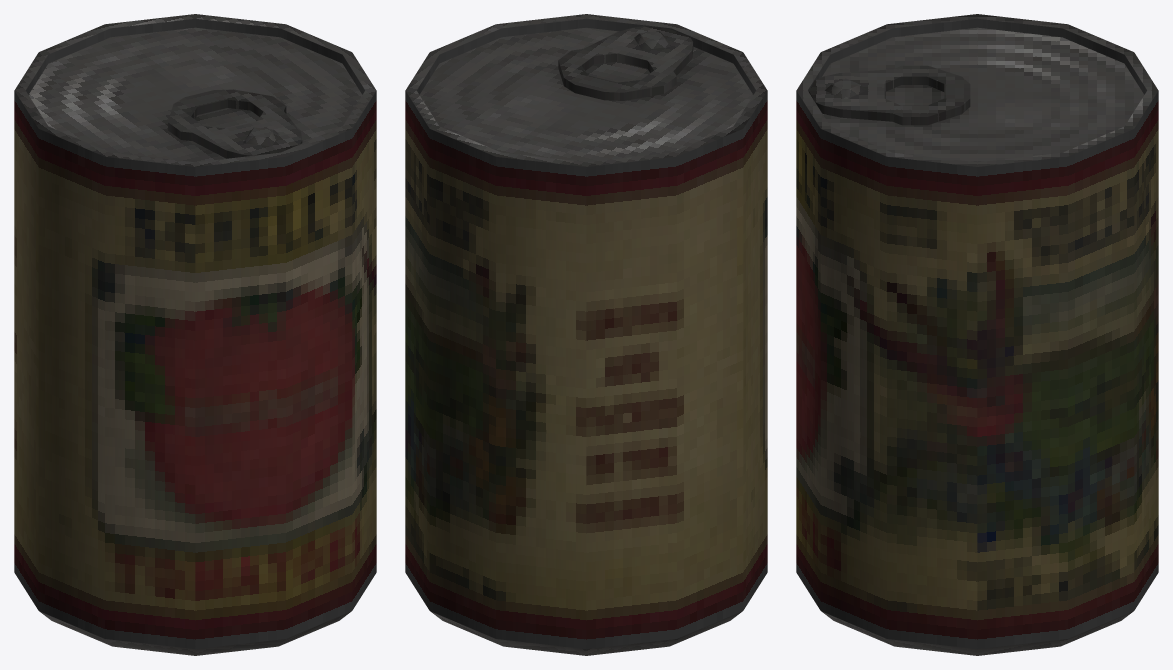
Rendered from canned_food_mp_1.glb.
3 renders of one model, left to right at view 1: azimuth 30°, elevation 25°; view 2: azimuth 150°, elevation 25°; view 3: azimuth 270°, elevation 25°, orthographic.
Visible parts, largest first — view 1: canned_food_mp_1; view 2: canned_food_mp_1; view 3: canned_food_mp_1.
Boxes of the visible parts, box(x1,y1,x2,y2) form: canned_food_mp_1: box(14, 14, 376, 655); canned_food_mp_1: box(405, 14, 767, 655); canned_food_mp_1: box(796, 14, 1158, 655).
Size of the model in its own units: 0.11 by 0.168 by 0.11.
Materials: 1 (1 with a texture image).
